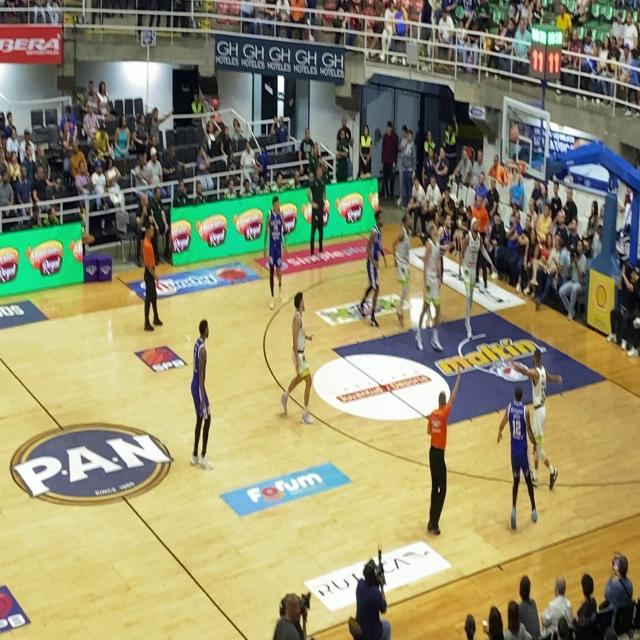referee: (412, 387, 456, 544)
team2: (501, 383, 534, 531)
ubasket: (504, 158, 524, 189)
